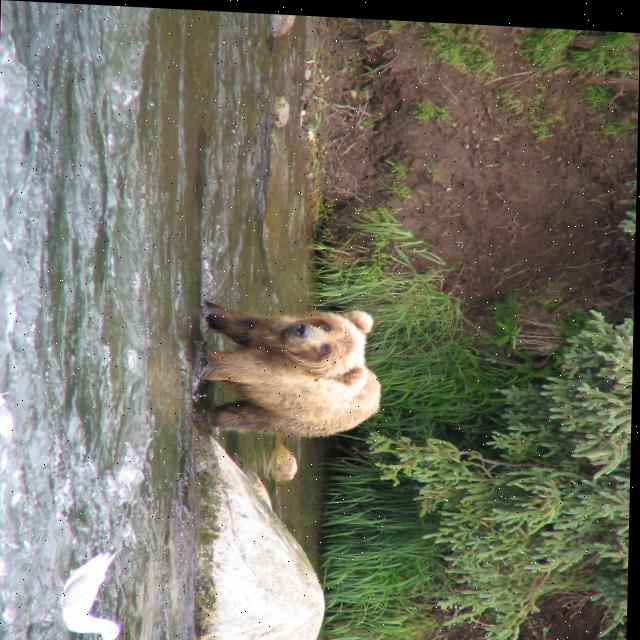bear face: (192, 299, 380, 435)
